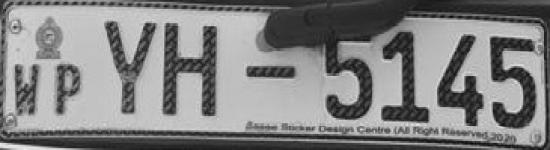-: (240, 58, 302, 82)
1: (380, 24, 436, 128)
4: (438, 26, 485, 131)
5: (324, 20, 381, 123), (487, 28, 540, 133)
H: (161, 18, 224, 120)
P: (51, 63, 85, 121)
W: (10, 61, 44, 118)
Y: (102, 16, 160, 120)
